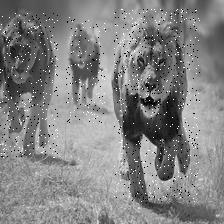Lion: (115, 9, 201, 203), (0, 13, 58, 158), (66, 18, 107, 124)
